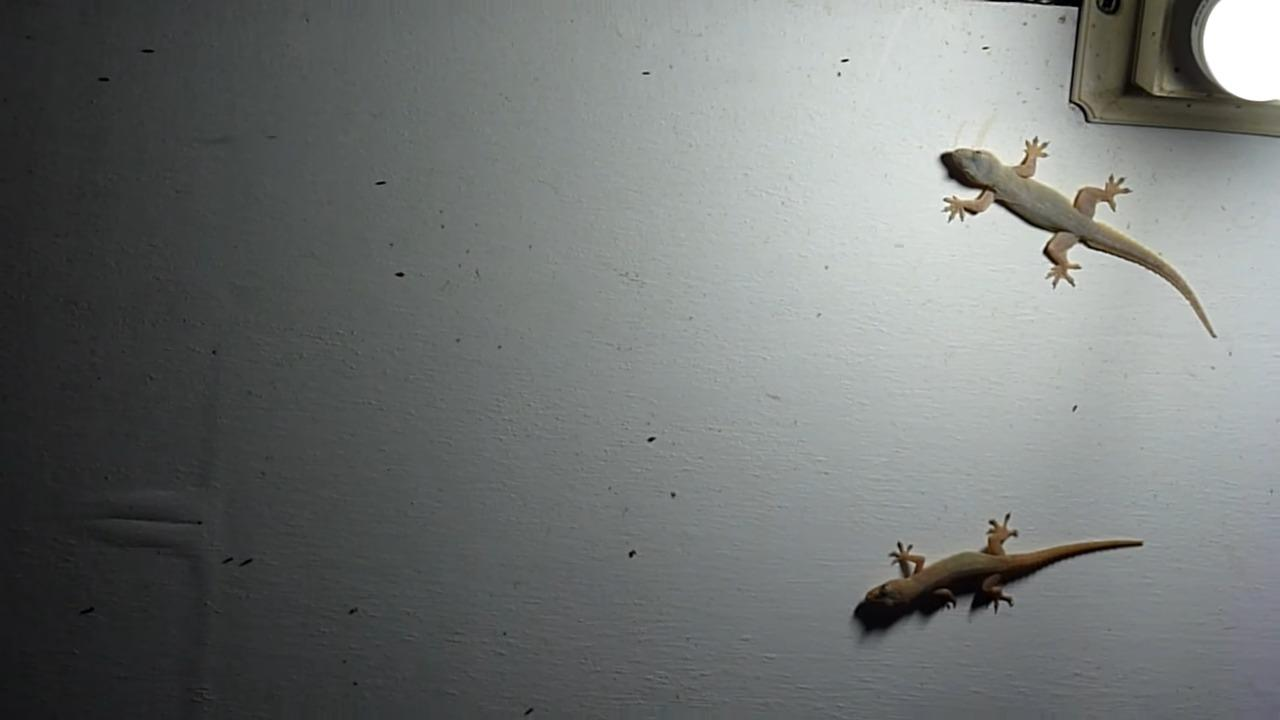lizard: (924, 124, 1222, 347), (819, 479, 1154, 657)
